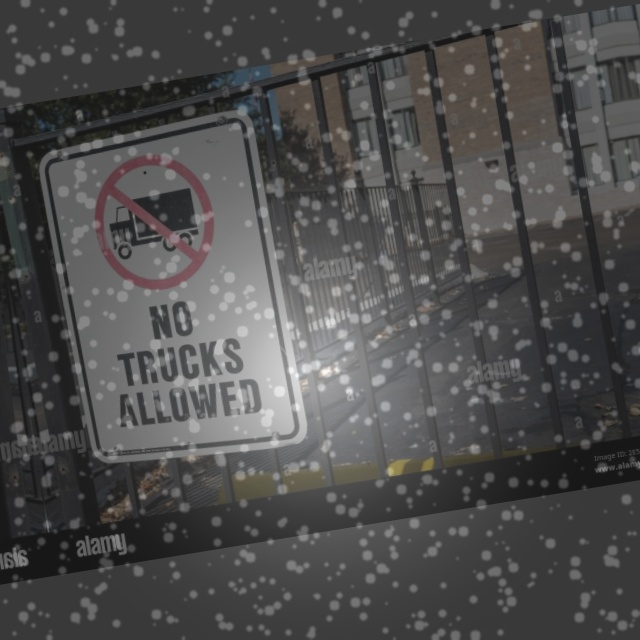Truck_Prohibited: (77, 134, 231, 307)
